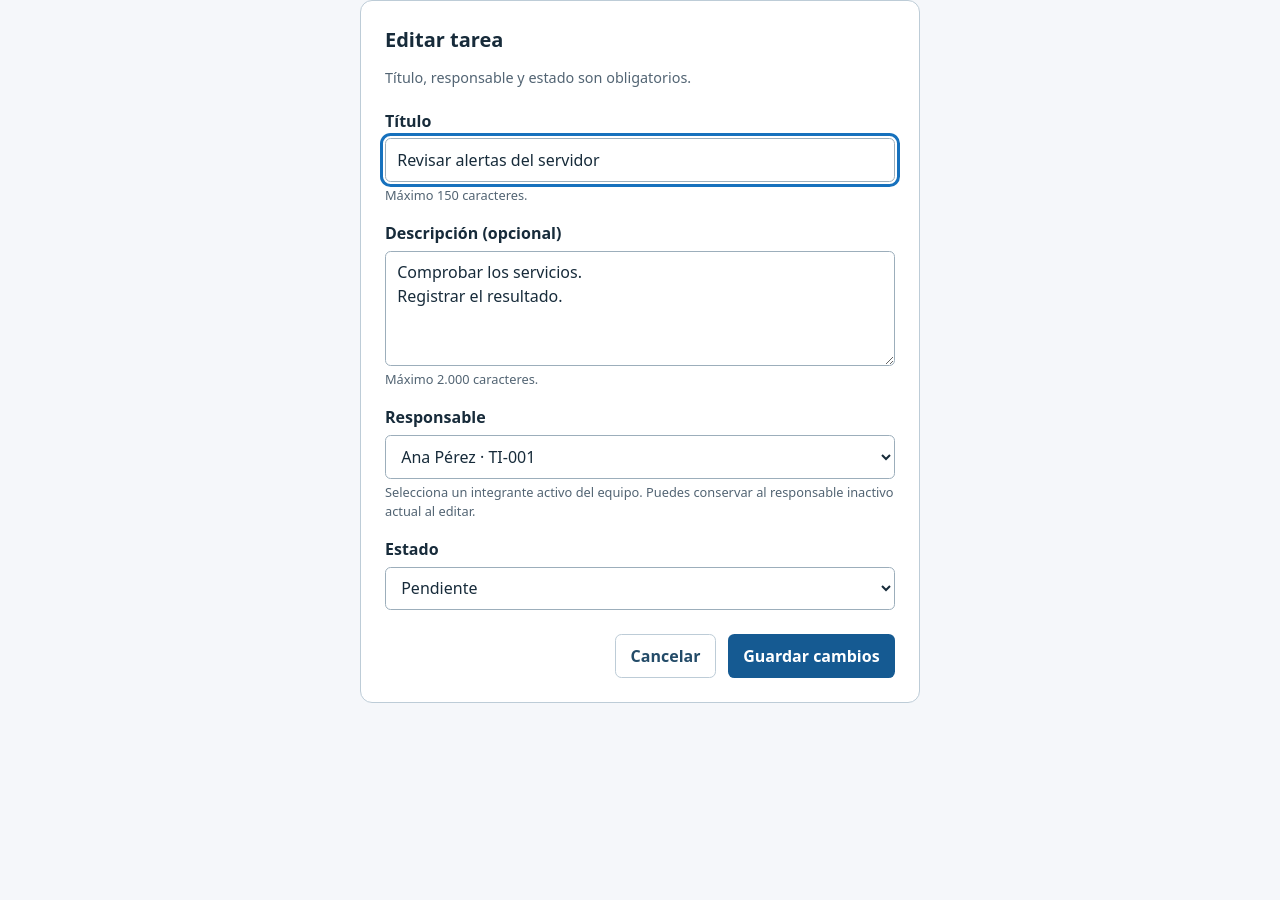
Test: Selector de responsables registrados › conserva los datos y permite elegir otro integrante si la API rechaza al desactivado al editar
This screenshot has width=1280, height=900.
Replace the text in the field labelled "Título" with "Texto que debe conservarse" at (640, 160), box [385,138,895,182]
Replace the text in the text box labelled "Descripción (opcional)" with "Descripción pendiente de guardar" at (640, 308), box [385,251,895,366]
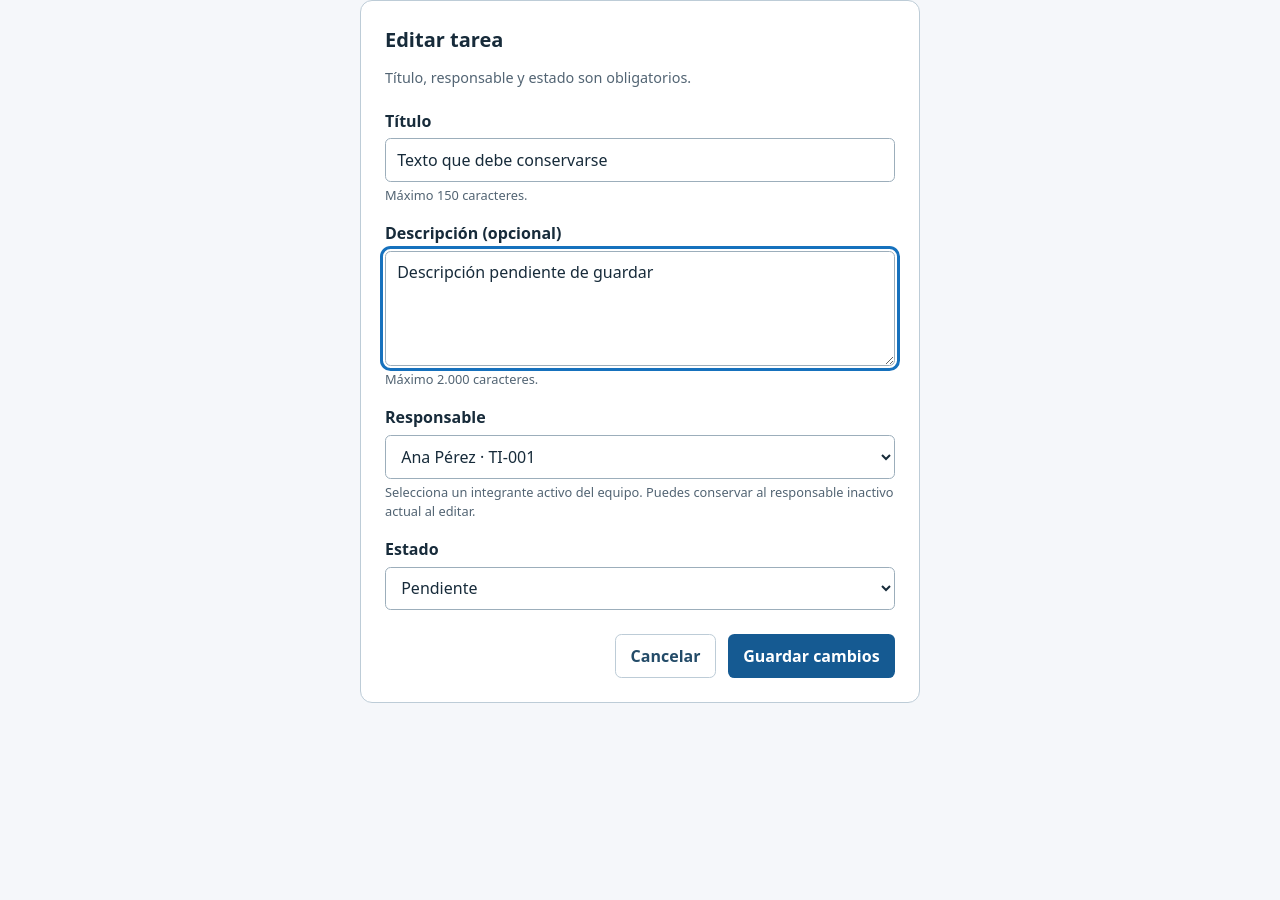
Select "Luis Torres · TI-002" in the dropdown labelled "Responsable" at (640, 457), box [385,435,895,479]
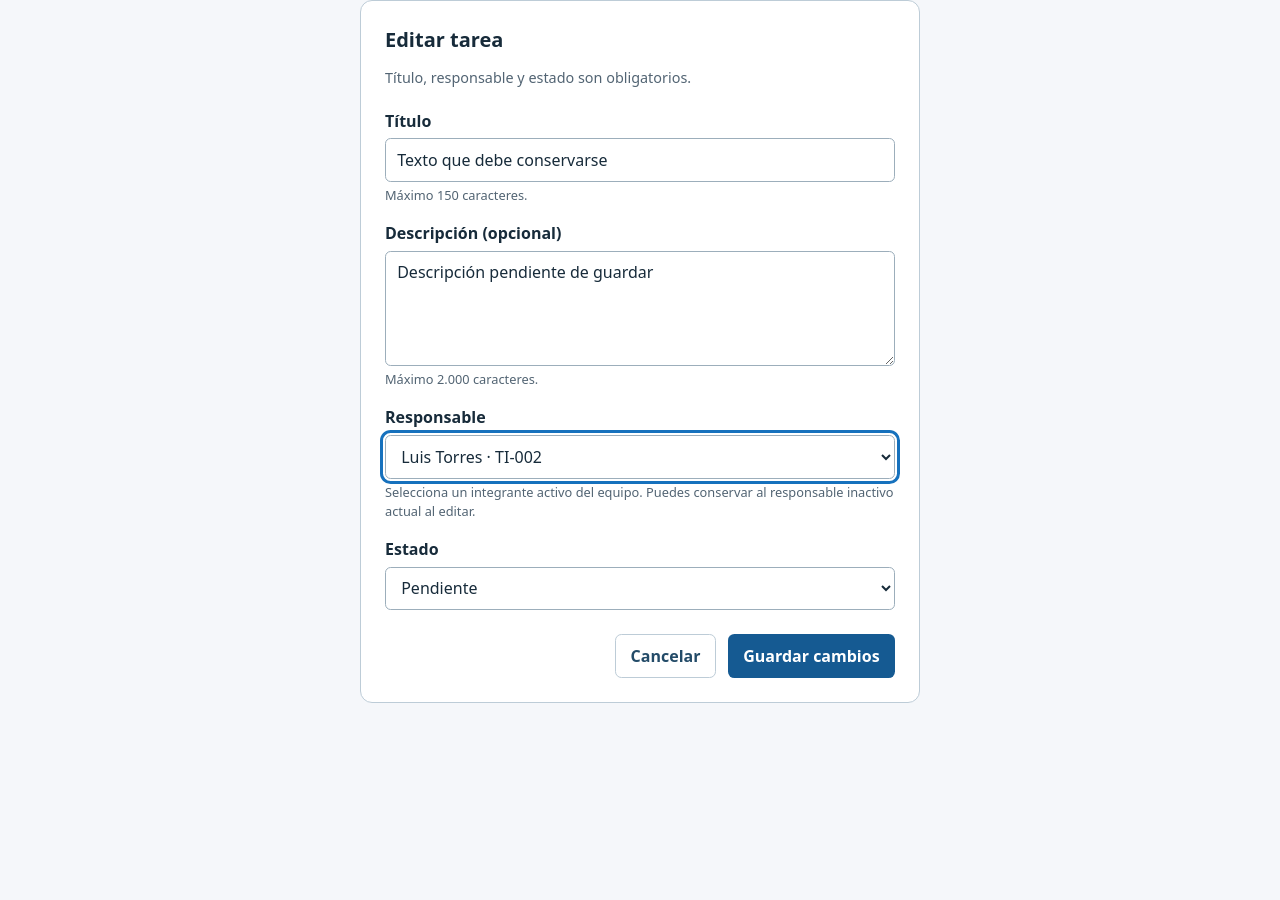
Select "En Proceso" in the dropdown labelled "Estado" at (640, 588), box [385,566,895,610]
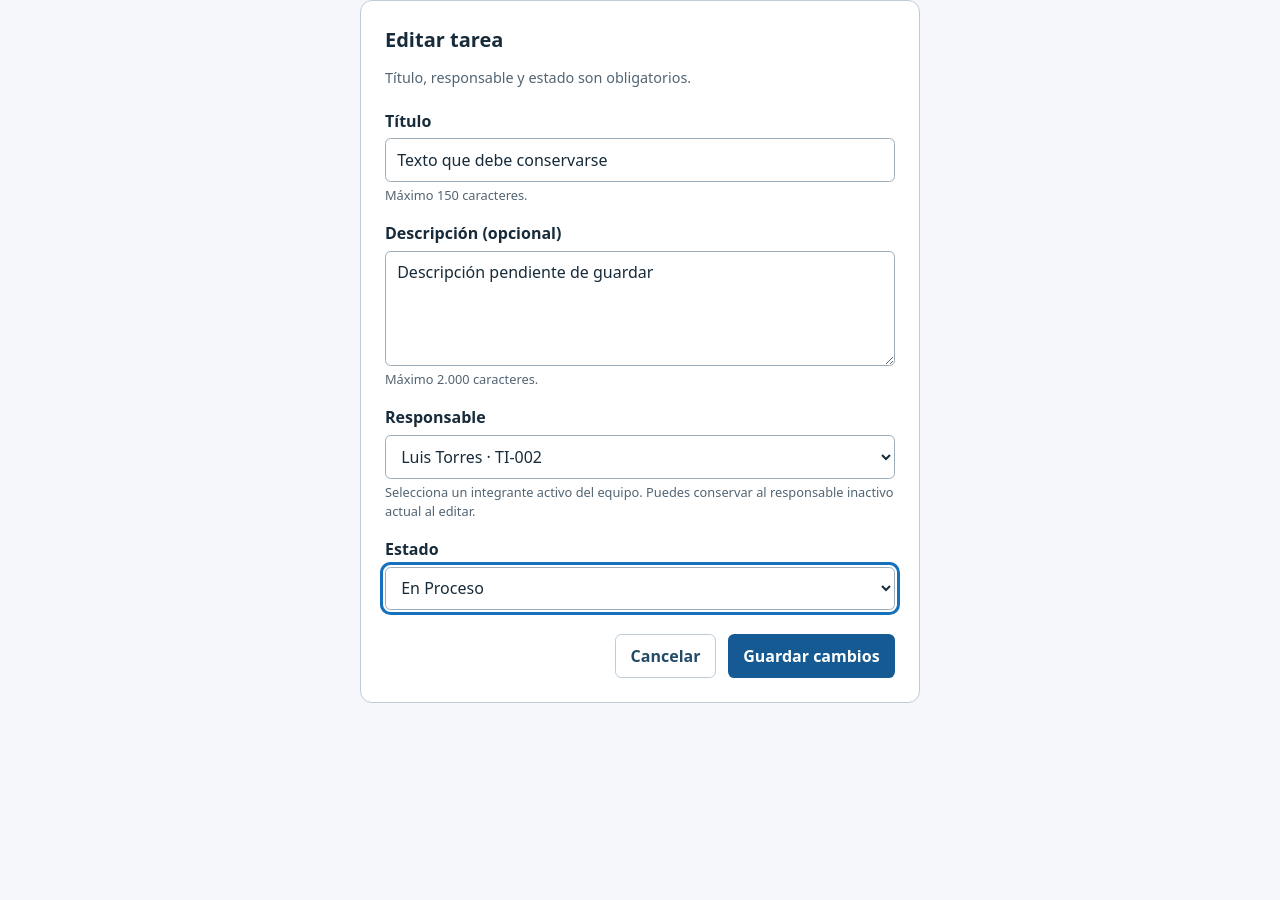
Click the button "Guardar cambios" at (811, 656), box [728,634,895,678]
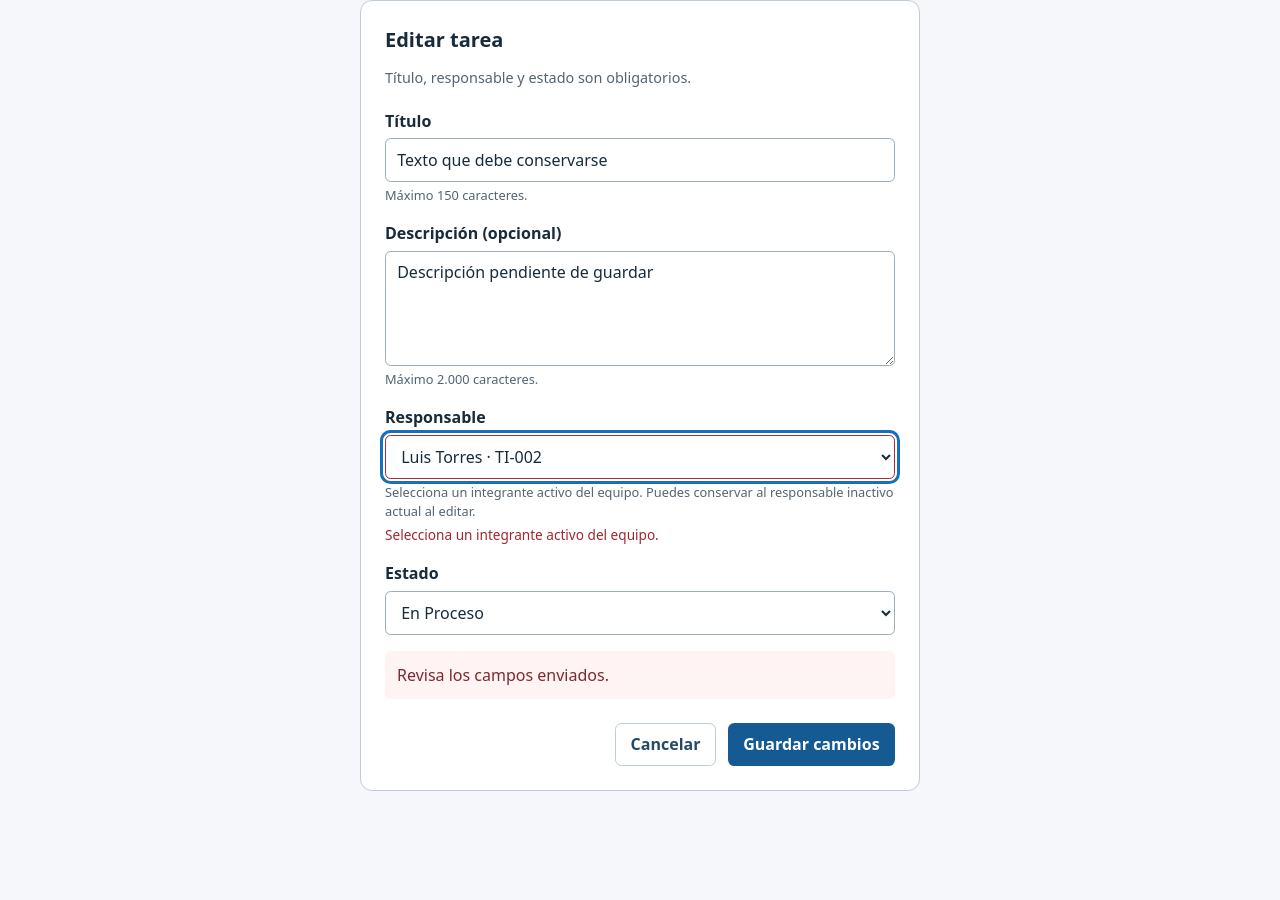
Result: the message reads "Revisa los campos enviados." at [397,664,609,686]
Result: the text "Selecciona un integrante activo del equipo." is shown at [385,525,659,544]
Select "María López · TI-003" in the dropdown labelled "Responsable" at (640, 457), box [385,435,895,479]
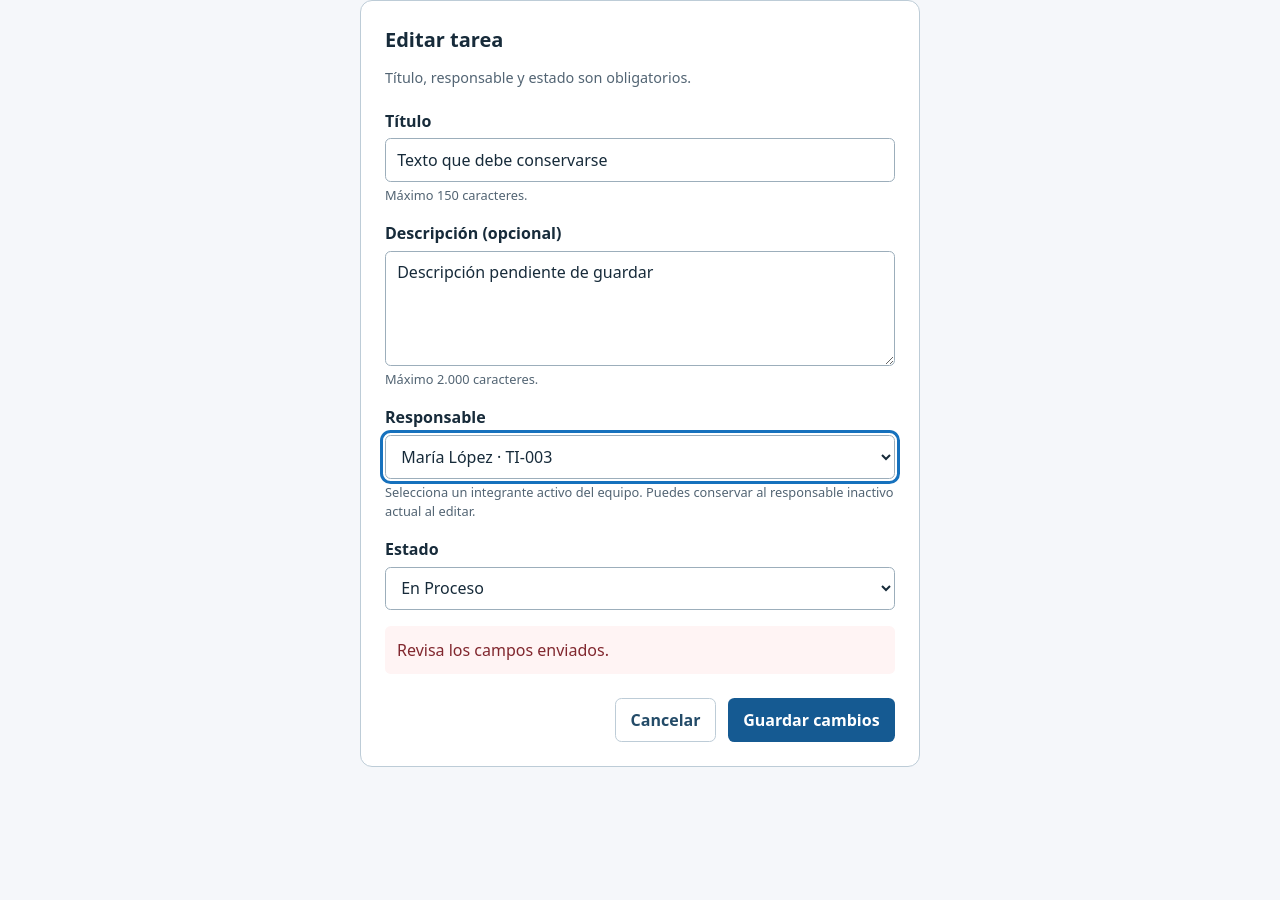
Click the button "Guardar cambios" at (811, 720), box [728,698,895,742]
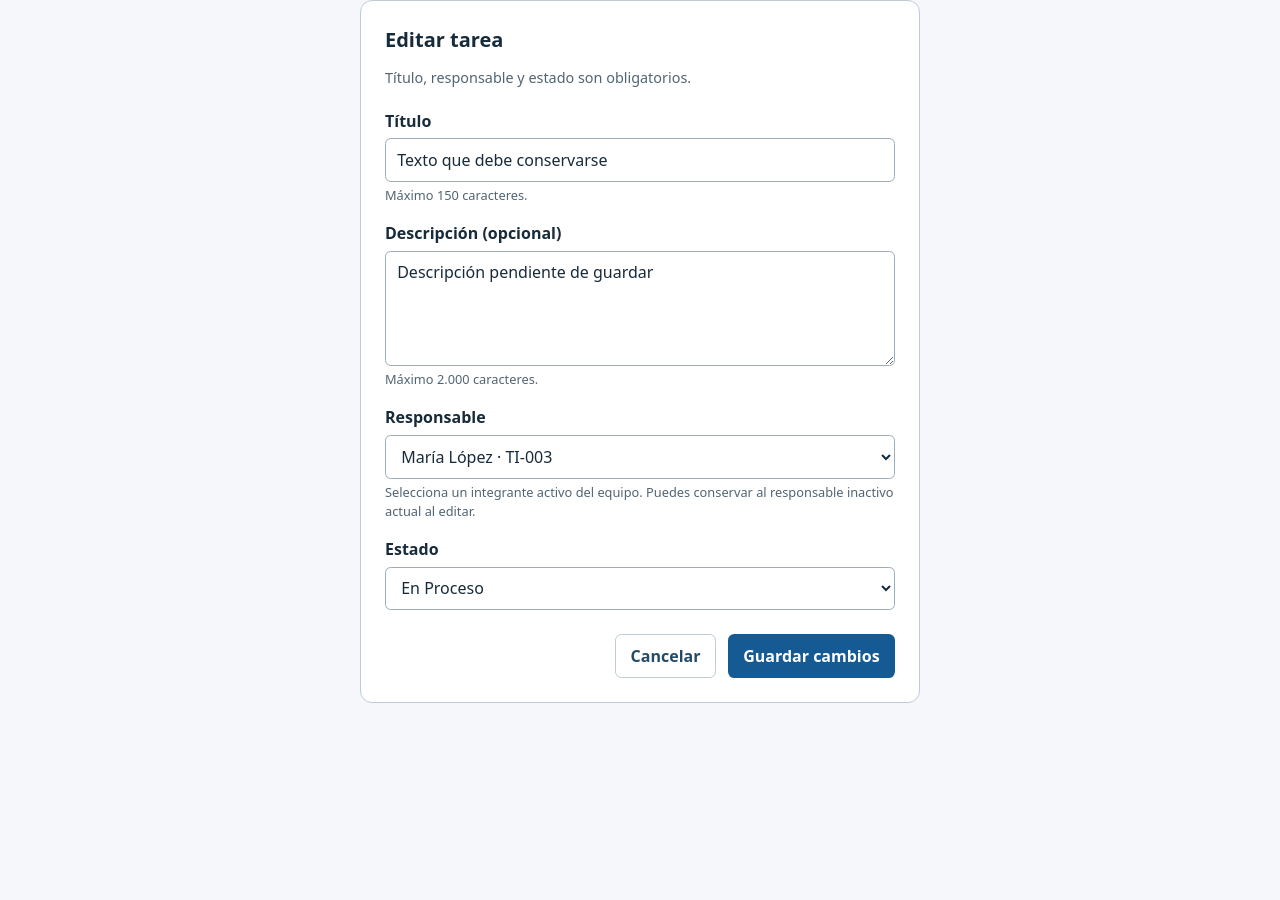
Expected: the button "Guardar cambios" is enabled, [728,634,895,678]
Result: the message "Revisa los campos enviados." is gone
